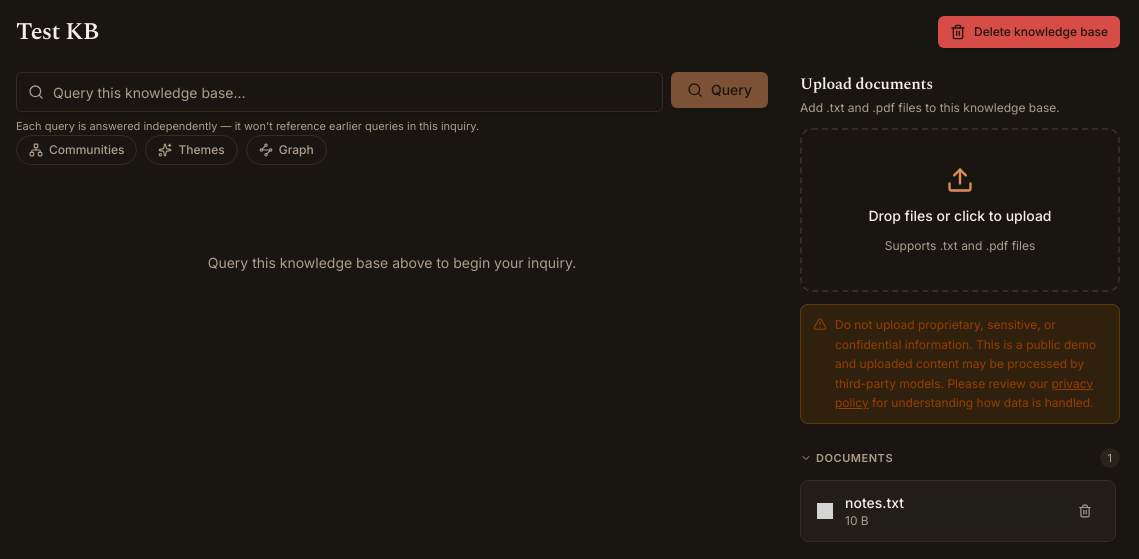
Test: KBDetailPage › documents panel › is expanded by default, and collapses/expands on toggle
Expected: the text "notes.txt" is shown, [845,494,904,511]
Click the button "Documents 1": (855, 458) [800,448,1120,468]
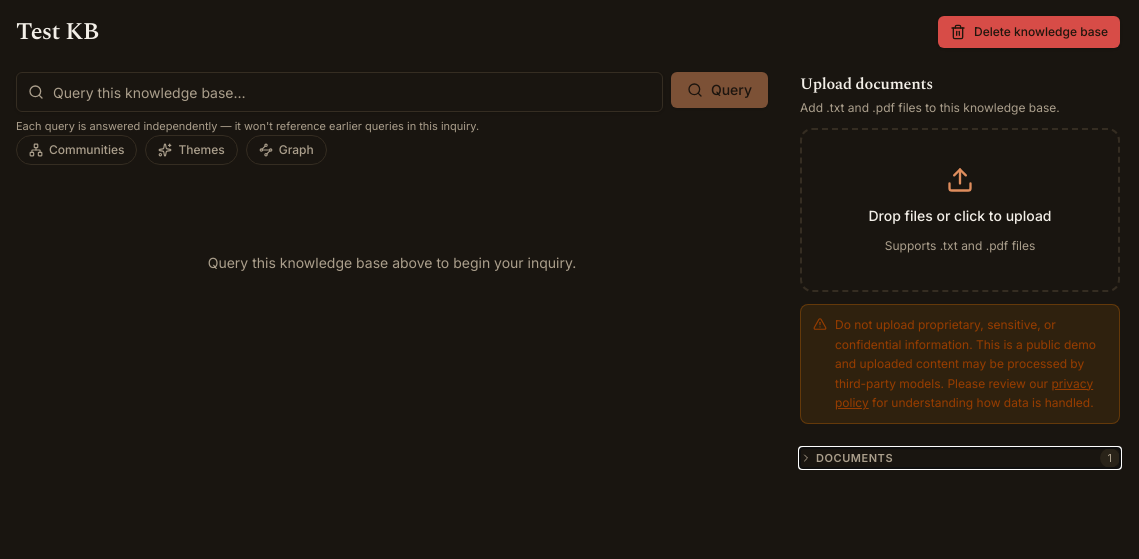
Expected: the button "Documents 1" is collapsed
Expected: the text "notes.txt" is gone
Click the button "Documents 1": (855, 458) [800,448,1120,468]
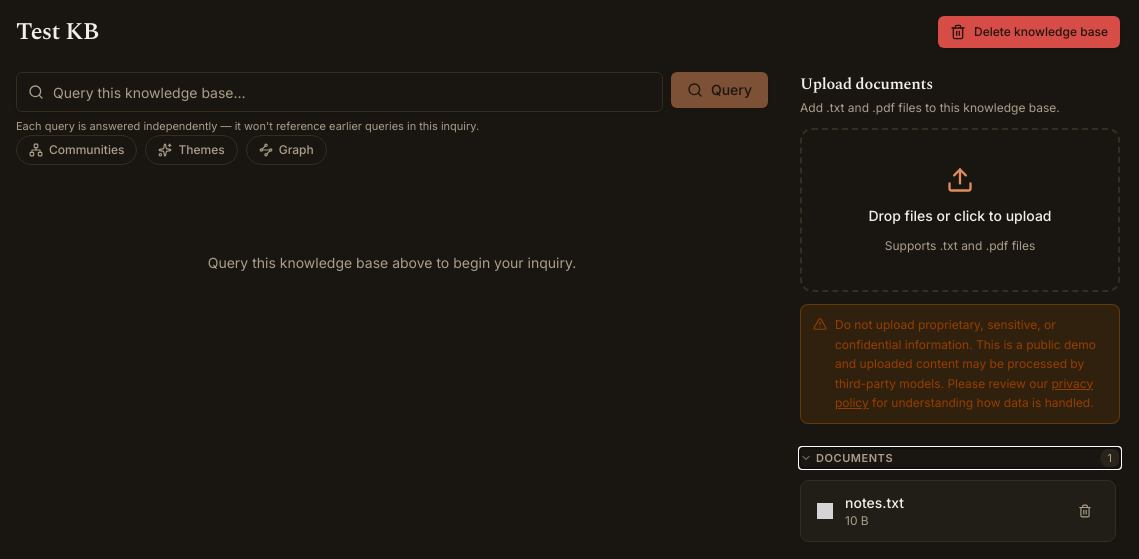
Expected: the button "Documents 1" is expanded, [800,448,1120,468]
Expected: the text "notes.txt" is shown, [845,494,904,511]
